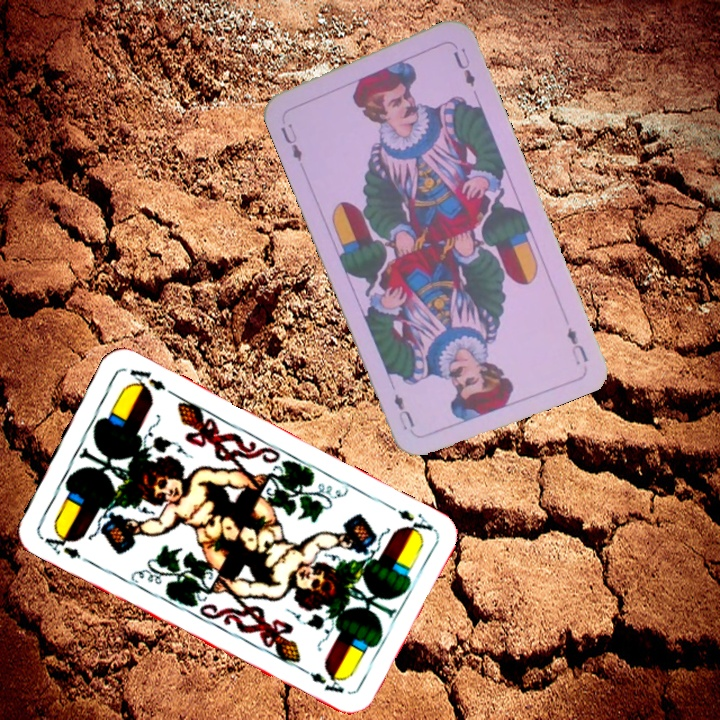EA: (381, 499, 436, 540), (36, 525, 84, 562)
EU: (276, 119, 305, 164), (563, 323, 591, 368)
